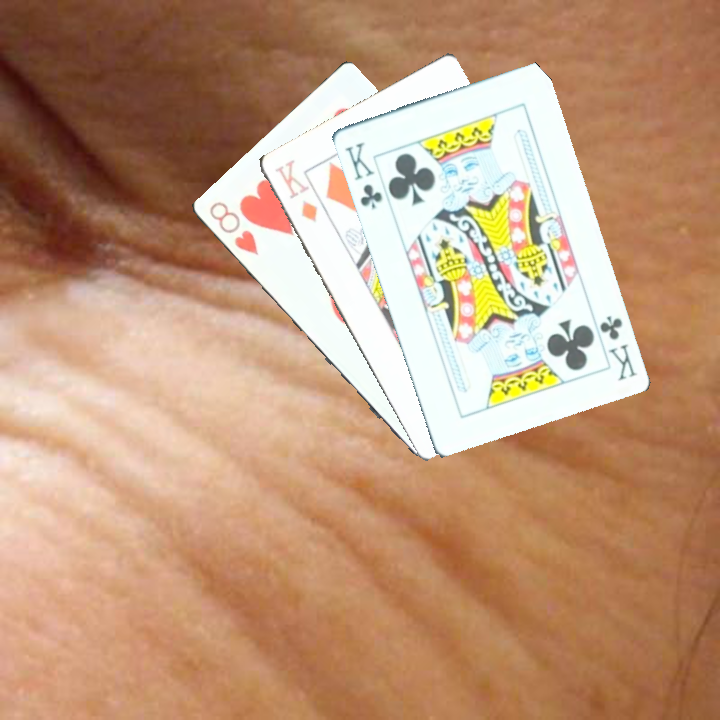8h: (205, 197, 262, 258)
Kc: (341, 137, 398, 212), (586, 308, 639, 383)
Kd: (270, 155, 335, 225)
